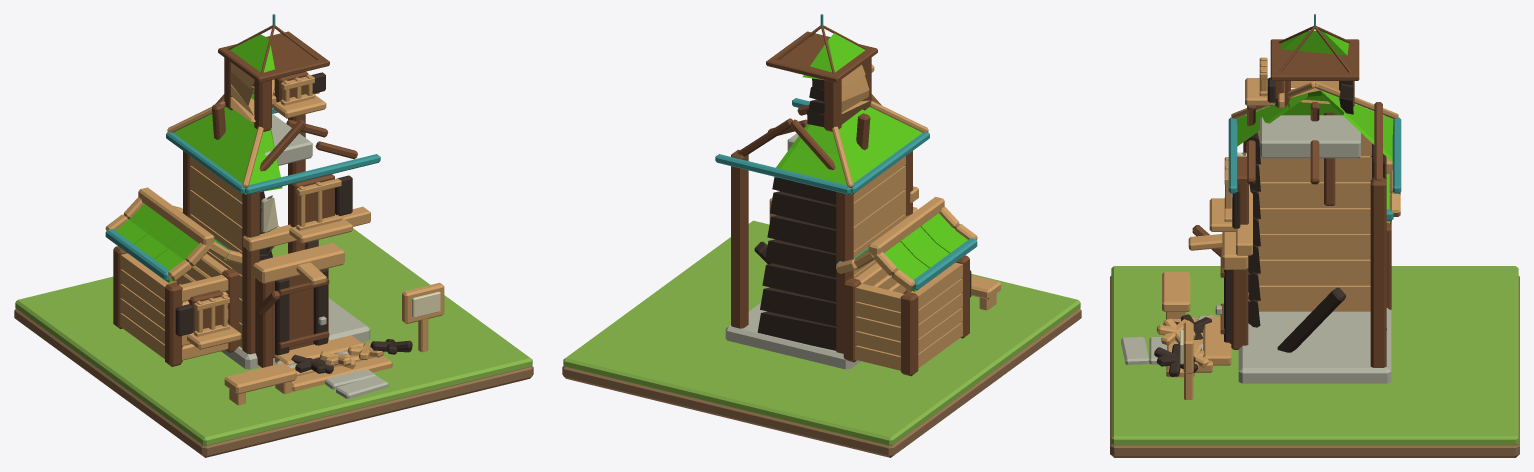
Rendered from town_hall_l04_damaged_LOD0.glb.
The picture shows the model from 3 angles, left to right: view 1: azimuth 30°, elevation 25°; view 2: azimuth 150°, elevation 25°; view 3: azimuth 270°, elevation 25°; orthographic projection. The views are drawn at different scales.
Parts seen in each view (by area): view 1: town_hall_l04_damaged_grass_tile, town_hall_l04_damaged_earth_tile, town_hall_l04_damaged_central_spire_cornice, town_hall_l04_damaged_corner_reinforcement, town_hall_l04_damaged_hip_roof_shingle.011, town_hall_l04_damaged_door_lintel, town_hall_l04_damaged_door_recess, town_hall_l04_damaged_foundation, town_hall_l04_damaged_bench_seat, town_hall_l04_damaged_ridge_cap.004, town_hall_l04_damaged_door_jamb, town_hall_l04_damaged_eave_trim (+38 smaller); view 2: town_hall_l04_damaged_grass_tile, town_hall_l04_damaged_earth_tile, town_hall_l04_damaged_corner_reinforcement.003, town_hall_l04_damaged_foundation, town_hall_l04_damaged_central_spire_cornice, town_hall_l04_damaged_hip_roof_shingle.011, town_hall_l04_damaged_corner_reinforcement.001, town_hall_l04_damaged_wall_siding.001, town_hall_l04_damaged_wall_siding.005, town_hall_l04_damaged_wall_siding.009, town_hall_l04_damaged_wall_siding.013, town_hall_l04_damaged_wall_siding.017 (+31 smaller); view 3: town_hall_l04_damaged_grass_tile, town_hall_l04_damaged_foundation, town_hall_l04_damaged_earth_tile, town_hall_l04_damaged_surviving_tower_course, town_hall_l04_damaged_corner_reinforcement.003, town_hall_l04_damaged_wall_siding.006, town_hall_l04_damaged_wall_siding.010, town_hall_l04_damaged_wall_siding.014, town_hall_l04_damaged_central_spire_cornice, town_hall_l04_damaged_wall_siding.018, town_hall_l04_damaged_wall_siding.002, town_hall_l04_damaged_wall_siding.022 (+24 smaller).
Boxes of the visible parts, x1,y1,x2,y2 form: town_hall_l04_damaged_grass_tile: (15,228,532,445); town_hall_l04_damaged_earth_tile: (14,308,533,457); town_hall_l04_damaged_central_spire_cornice: (218,31,329,82); town_hall_l04_damaged_corner_reinforcement: (242,192,259,354); town_hall_l04_damaged_hip_roof_shingle.011: (173,118,250,194); town_hall_l04_damaged_door_lintel: (253,243,344,283); town_hall_l04_damaged_door_recess: (273,268,328,357); town_hall_l04_damaged_foundation: (221,298,370,369); town_hall_l04_damaged_bench_seat: (224,363,296,394); town_hall_l04_damaged_ridge_cap.004: (138,187,214,246); town_hall_l04_damaged_door_jamb: (255,278,272,367); town_hall_l04_damaged_eave_trim: (245,154,380,194); town_hall_l04_damaged_grass_tile: (563,220,1080,445); town_hall_l04_damaged_earth_tile: (562,308,1081,457); town_hall_l04_damaged_corner_reinforcement.003: (731,149,748,328); town_hall_l04_damaged_foundation: (725,303,860,369); town_hall_l04_damaged_central_spire_cornice: (766,31,877,82); town_hall_l04_damaged_hip_roof_shingle.011: (845,118,922,194); town_hall_l04_damaged_corner_reinforcement.001: (836,192,853,353); town_hall_l04_damaged_wall_siding.001: (757,311,836,350); town_hall_l04_damaged_wall_siding.005: (760,287,836,326); town_hall_l04_damaged_wall_siding.009: (762,263,836,302); town_hall_l04_damaged_wall_siding.013: (765,239,836,277); town_hall_l04_damaged_wall_siding.017: (767,215,836,253); town_hall_l04_damaged_grass_tile: (1111,266,1518,445); town_hall_l04_damaged_foundation: (1238,308,1391,383); town_hall_l04_damaged_earth_tile: (1110,276,1519,457); town_hall_l04_damaged_surviving_tower_course: (1260,115,1360,158); town_hall_l04_damaged_corner_reinforcement.003: (1370,177,1386,367); town_hall_l04_damaged_wall_siding.006: (1258,259,1370,285); town_hall_l04_damaged_wall_siding.010: (1258,234,1370,259); town_hall_l04_damaged_wall_siding.014: (1258,208,1370,233); town_hall_l04_damaged_central_spire_cornice: (1270,39,1359,80); town_hall_l04_damaged_wall_siding.018: (1258,182,1370,207); town_hall_l04_damaged_wall_siding.002: (1258,285,1370,311); town_hall_l04_damaged_wall_siding.022: (1258,156,1371,181).
Bounding box in the file's own units: 3.6 × 3.48 × 3.6.
